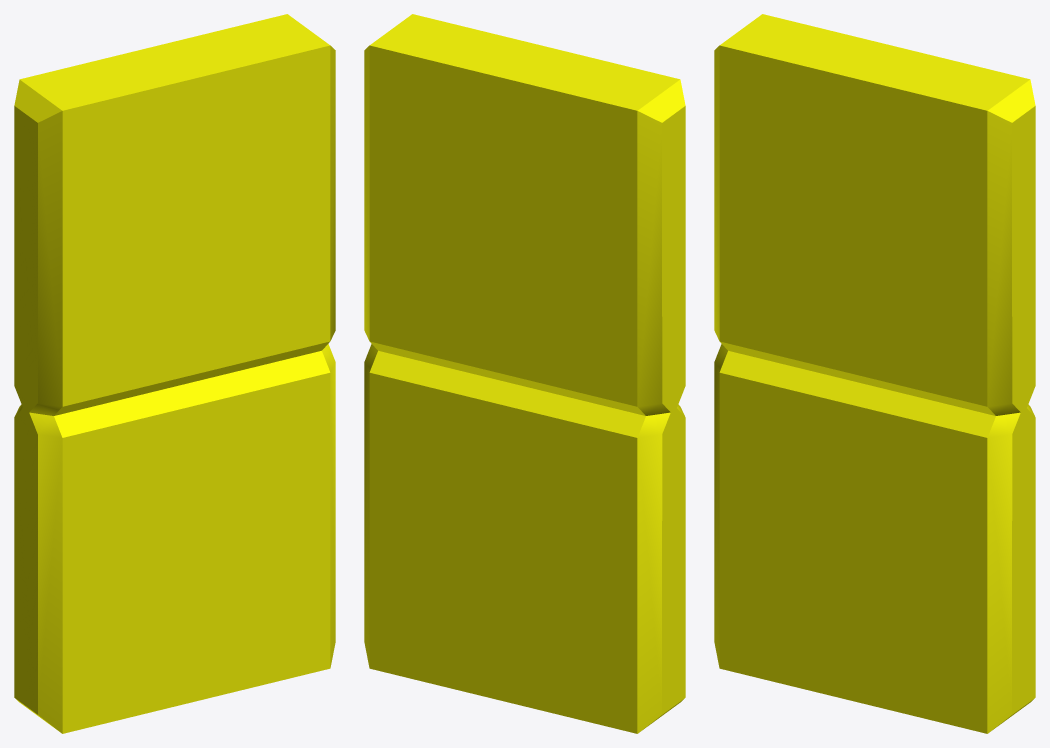
The model's file is kaykit-restaurant-wall-half.glb.
3 views of the same model, side by side, from view 1: azimuth 30°, elevation 25°; view 2: azimuth 150°, elevation 25°; view 3: azimuth 330°, elevation 25° (orthographic).
Visible parts, largest first — view 1: wall_half; view 2: wall_half; view 3: wall_half.
Boxes of the visible parts, x1=… form: wall_half: x1=14, y1=14, x2=335, y2=733; wall_half: x1=364, y1=14, x2=685, y2=733; wall_half: x1=714, y1=14, x2=1035, y2=733.
Bounding box in the file's own units: 2 × 4 × 0.5.
